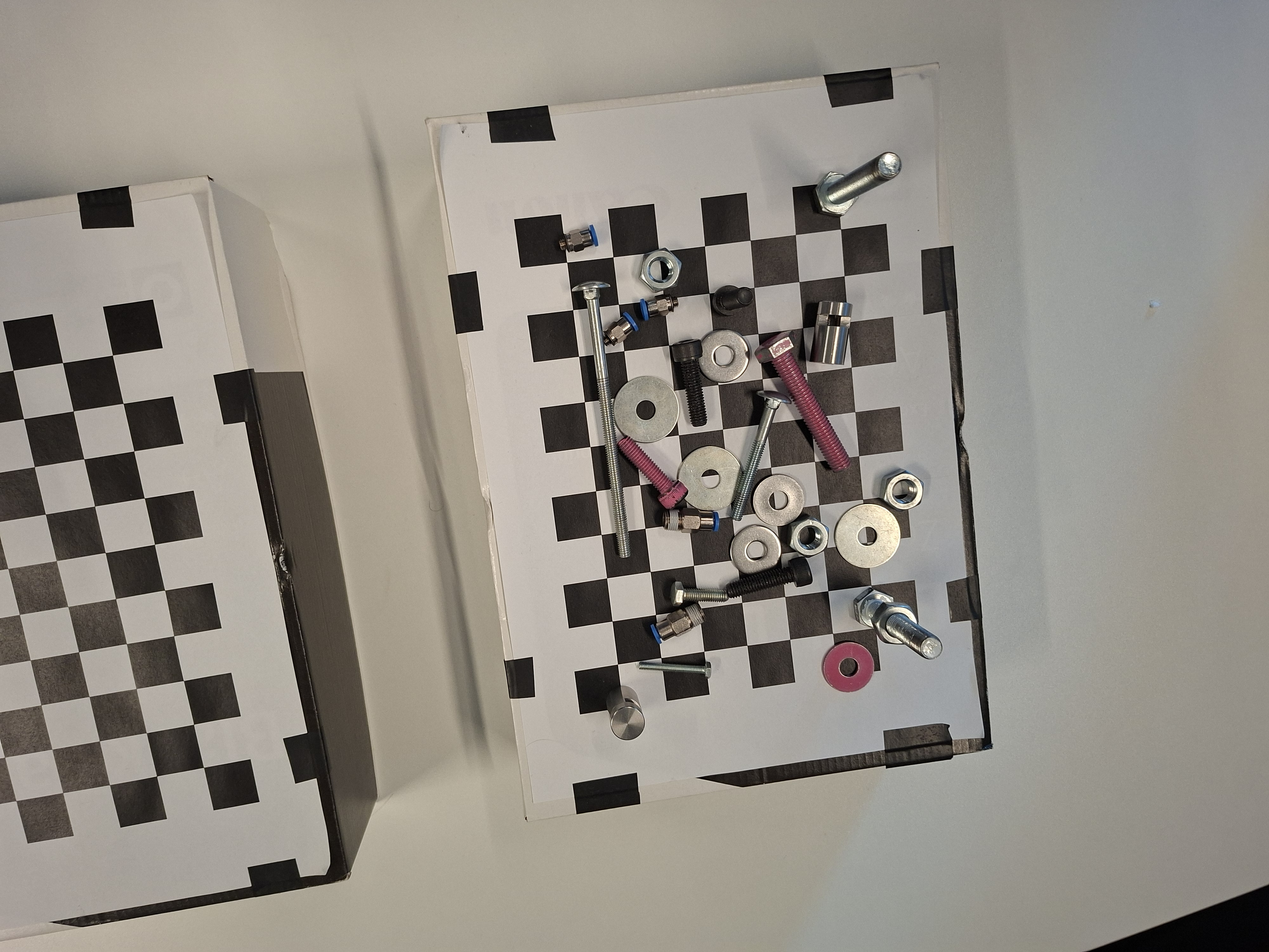allen_screw: (607, 426, 694, 516), (664, 333, 720, 431), (725, 552, 816, 606), (708, 277, 759, 323)
barrel_nut: (805, 293, 860, 369), (598, 676, 654, 746)
carriage_bolt: (566, 274, 650, 568), (718, 383, 795, 526)
hex_bolt: (749, 325, 867, 488), (841, 580, 956, 672), (803, 137, 917, 227), (636, 654, 718, 682), (667, 580, 730, 608)
hex_nut: (625, 238, 696, 303), (872, 460, 934, 521), (777, 508, 840, 567), (869, 596, 920, 651)
pneumatic_fitting: (643, 598, 711, 649), (595, 309, 646, 358), (551, 222, 606, 260), (660, 506, 722, 536), (635, 290, 679, 325)
washer: (600, 363, 693, 457), (826, 494, 907, 577), (671, 440, 752, 519), (718, 514, 793, 589), (808, 633, 881, 701), (748, 468, 812, 530), (690, 326, 754, 385)
